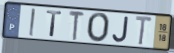I: (28, 7, 37, 38)
J: (111, 15, 130, 44)
O: (87, 11, 112, 44)
T: (134, 15, 154, 48), (68, 10, 86, 42), (45, 10, 63, 39)
